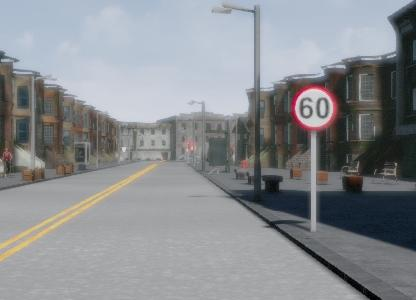Speed_60: (293, 79, 341, 134)
